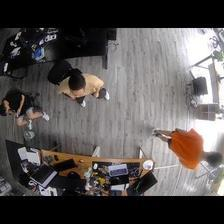normal: (152, 122, 220, 169), (62, 73, 111, 106)
